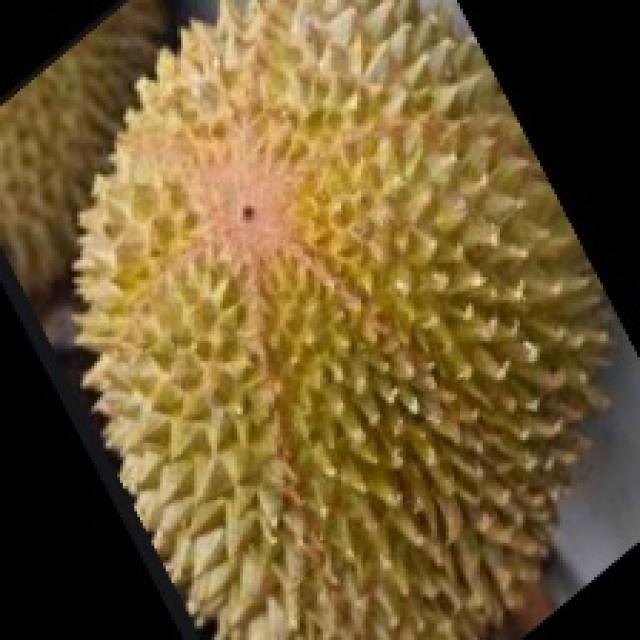d175: (61, 0, 622, 640)
